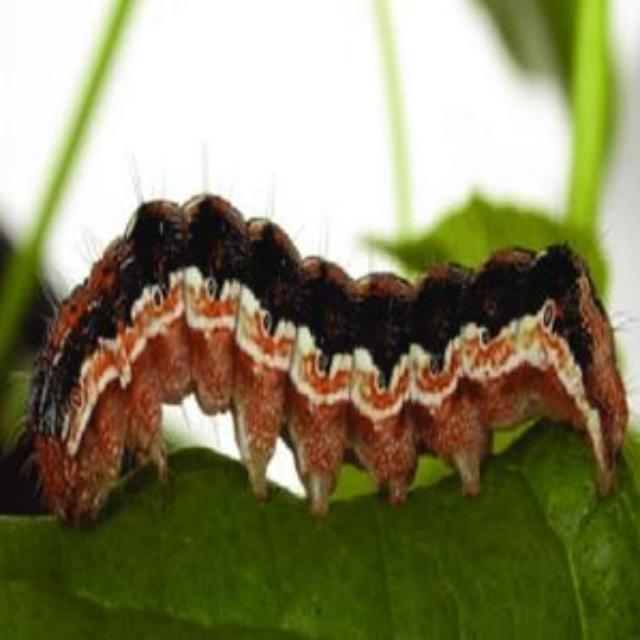Cotton bollworm: (15, 179, 640, 535)
